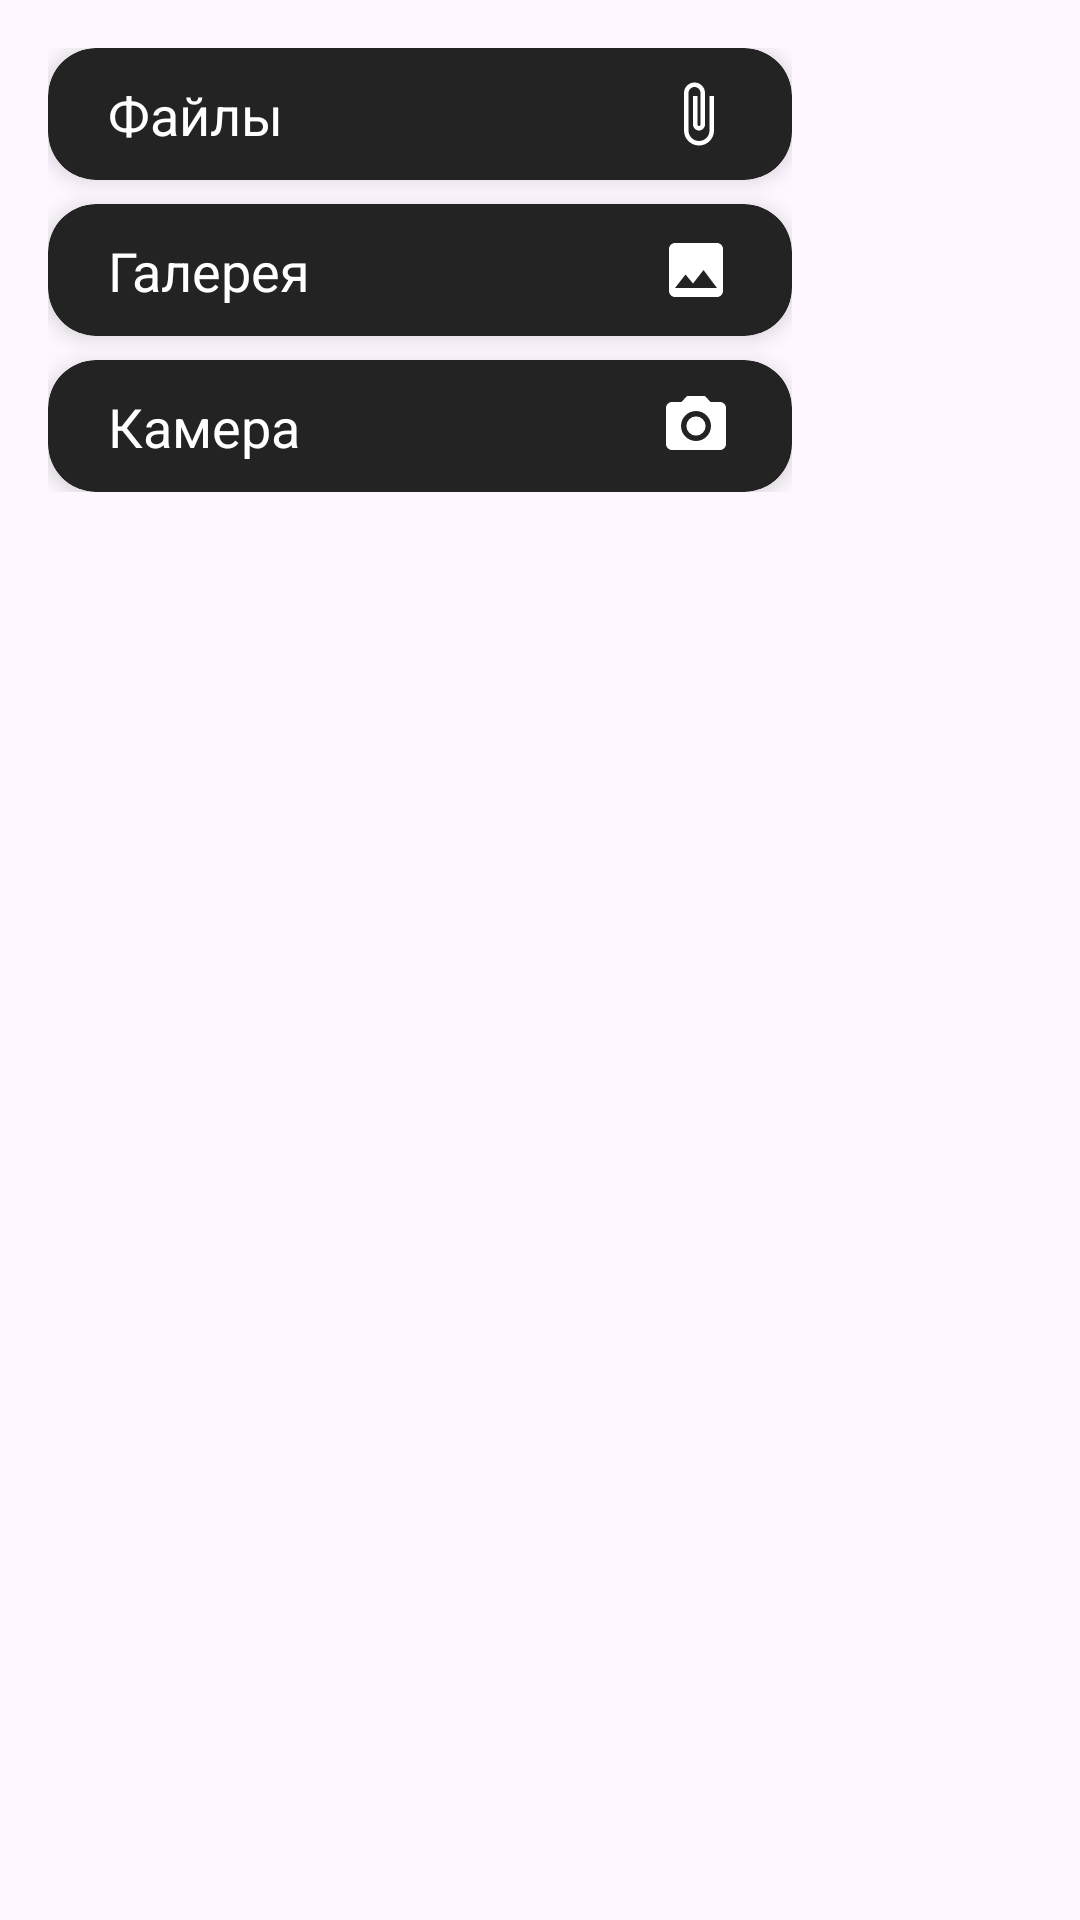

Icon click points for this 1080w x 1920h phone screenshot, format [x,y]:
clip: [699,114]
gallery: [696,270]
